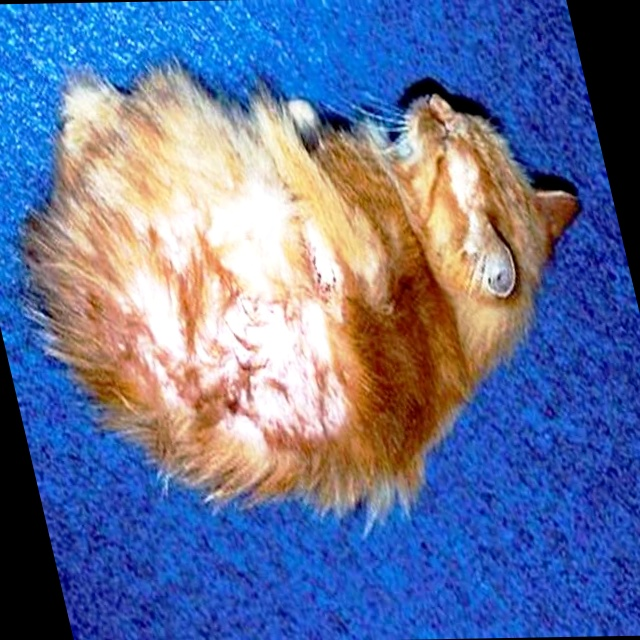hairloss: (121, 202, 344, 441)
